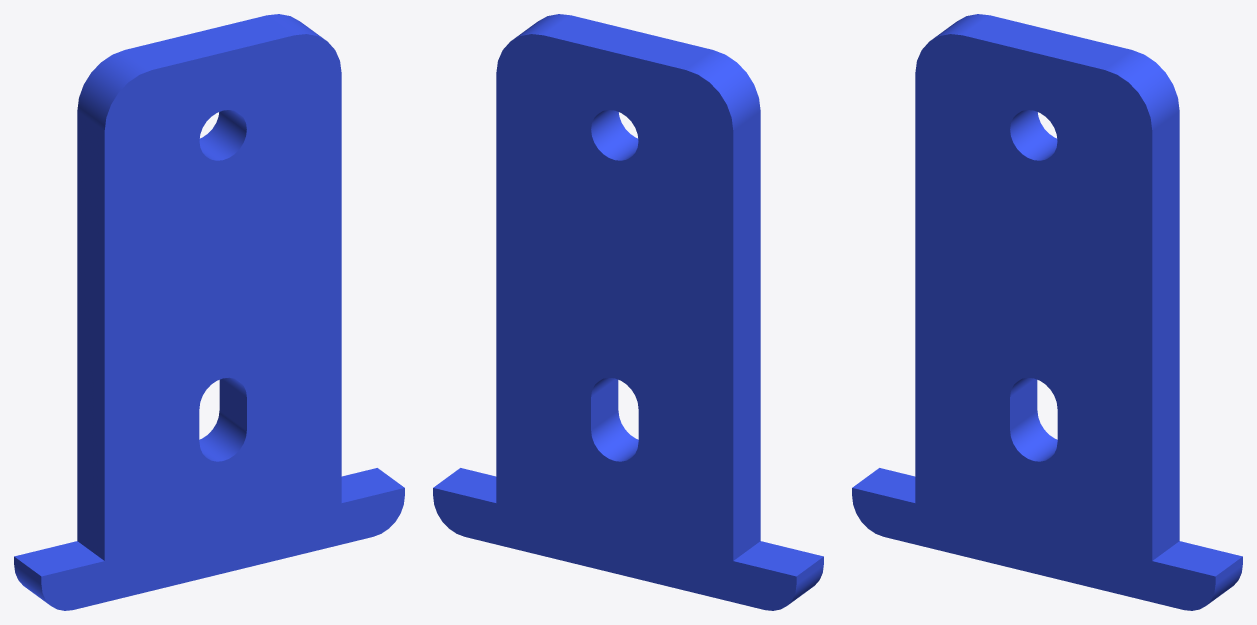
The model's file is Motor_mount.obj.
3 views of the same model, side by side, from view 1: azimuth 30°, elevation 25°; view 2: azimuth 150°, elevation 25°; view 3: azimuth 330°, elevation 25° (orthographic).
Visible parts, largest first — view 1: Body1; view 2: Body1; view 3: Body1.
Part boxes in pixels (left/top/right/bottom): Body1: left=14, top=14, right=404, bottom=610; Body1: left=433, top=14, right=823, bottom=610; Body1: left=852, top=14, right=1242, bottom=610.
Bounding box in the file's own units: 2.3 × 3.15 × 0.3.
